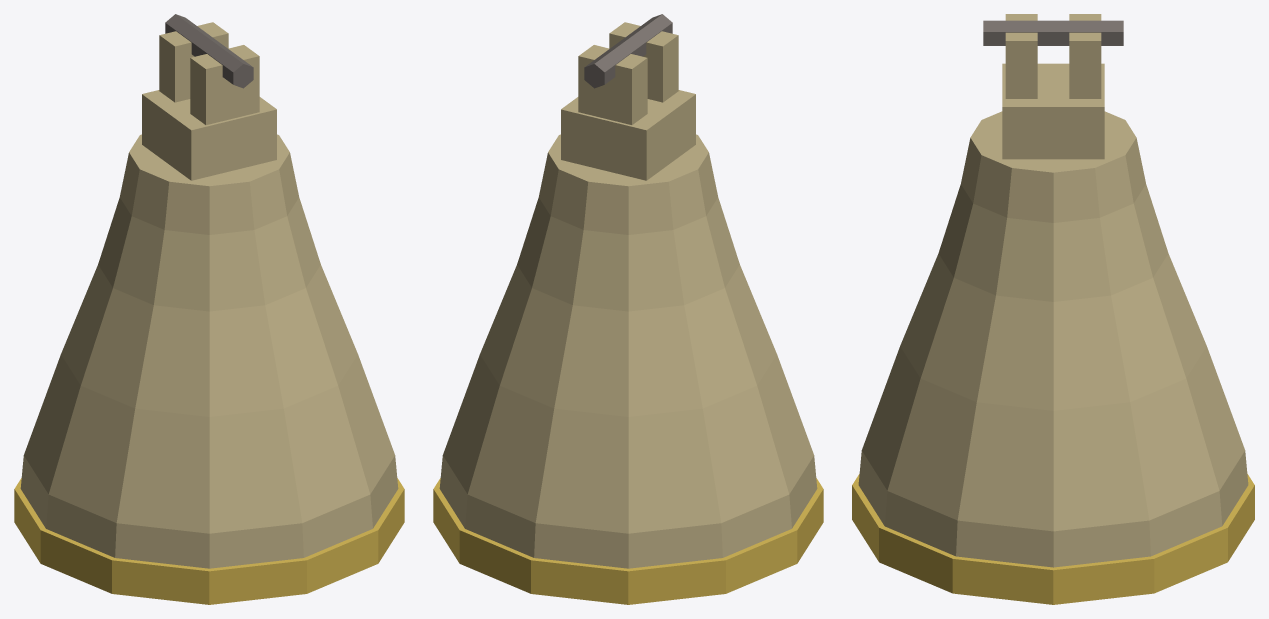
Rendered from bell_v1.glb.
3 views of the same model, side by side, from view 1: azimuth 30°, elevation 25°; view 2: azimuth 150°, elevation 25°; view 3: azimuth 270°, elevation 25° (orthographic). The views are drawn at different scales.
Parts seen in each view (by area): view 1: Body, Hem, Crown, Crown.Lug.-1, Crown.Lug.1, Crown.Axis; view 2: Body, Hem, Crown, Crown.Lug.1, Crown.Lug.-1, Crown.Axis; view 3: Body, Hem, Crown, Crown.Axis, Crown.Lug.1, Crown.Lug.-1.
Boxes of the visible parts, left/top/right/bottom form: Body: left=20, top=134, right=398, bottom=568; Hem: left=14, top=478, right=404, bottom=604; Crown: left=142, top=90, right=276, bottom=180; Crown.Lug.-1: left=190, top=45, right=259, bottom=124; Crown.Lug.1: left=159, top=22, right=228, bottom=102; Crown.Axis: left=165, top=14, right=253, bottom=88; Body: left=439, top=134, right=817, bottom=568; Hem: left=433, top=478, right=823, bottom=604; Crown: left=561, top=90, right=695, bottom=180; Crown.Lug.1: left=578, top=45, right=647, bottom=124; Crown.Lug.-1: left=609, top=22, right=678, bottom=102; Crown.Axis: left=584, top=14, right=672, bottom=88; Body: left=858, top=111, right=1248, bottom=567; Hem: left=852, top=474, right=1254, bottom=604; Crown: left=1002, top=63, right=1104, bottom=159; Crown.Axis: left=983, top=20, right=1123, bottom=45; Crown.Lug.1: left=1069, top=14, right=1101, bottom=98; Crown.Lug.-1: left=1005, top=14, right=1037, bottom=98.
Bounding box in the file's own units: 0.63 × 0.862 × 0.63.
